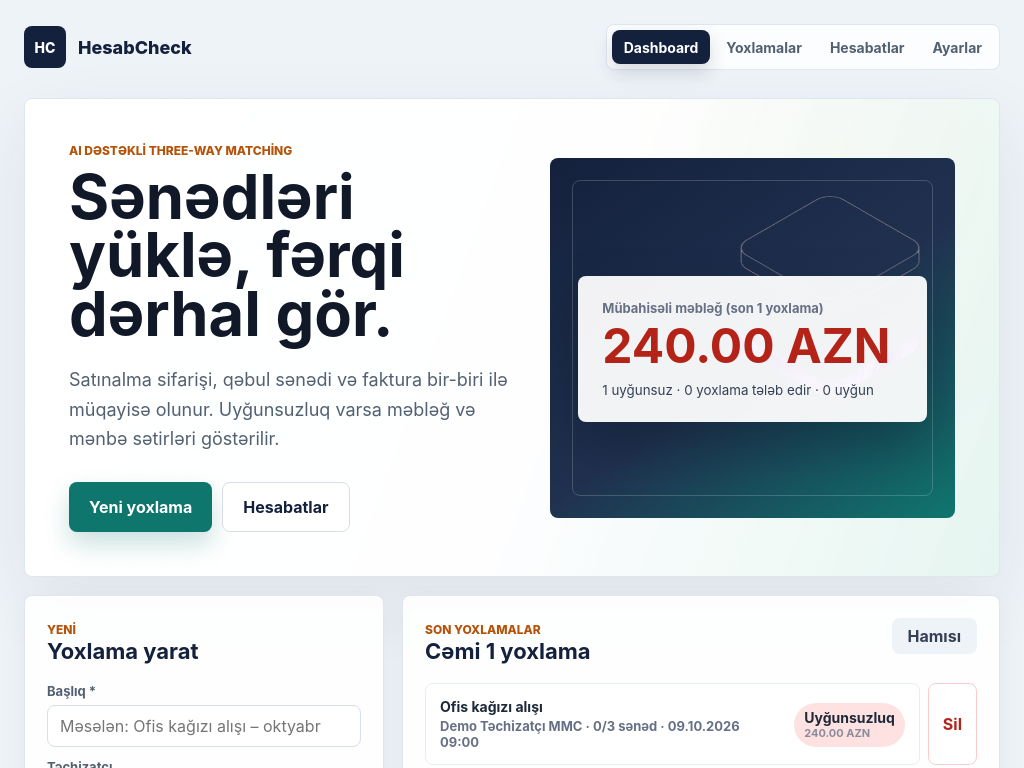
Test: Hesabatlar › JSON hesabatı endirir və yoxlamanı açır
Expected: the text "Ofis kağızı alışı" is shown, [440, 698, 543, 714]
Click the 1st button "Hesabatlar". click: point(867, 47)
box: [818, 30, 917, 64]
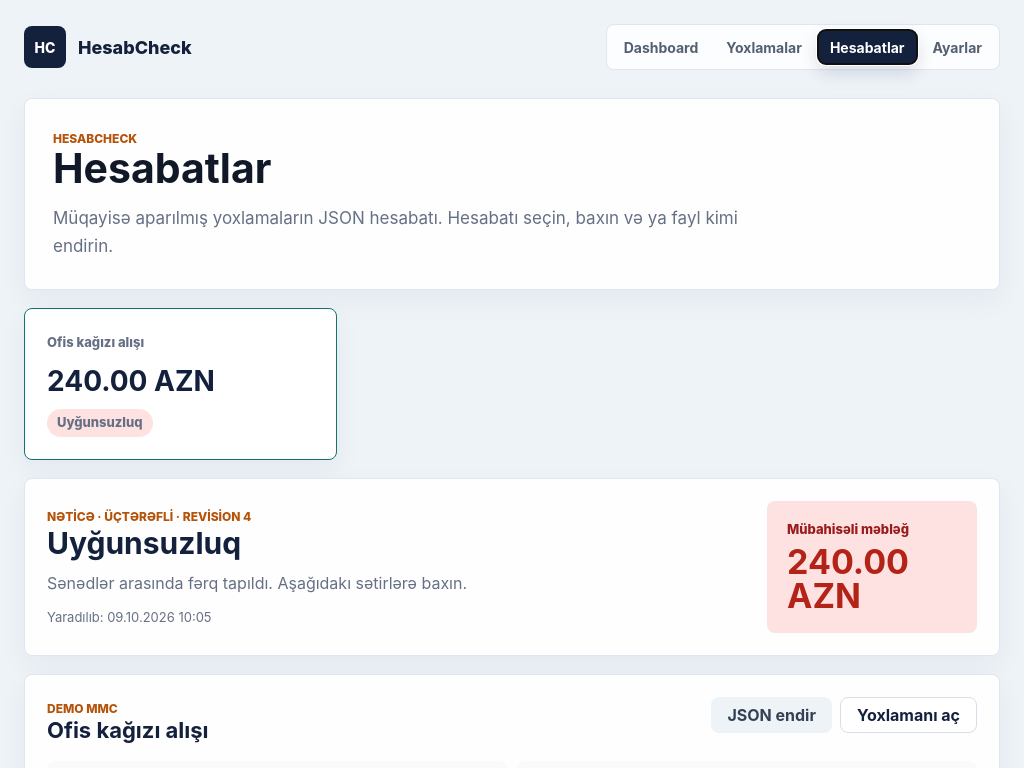
Click the button "JSON endir". click: point(772, 714)
box: [711, 696, 832, 732]
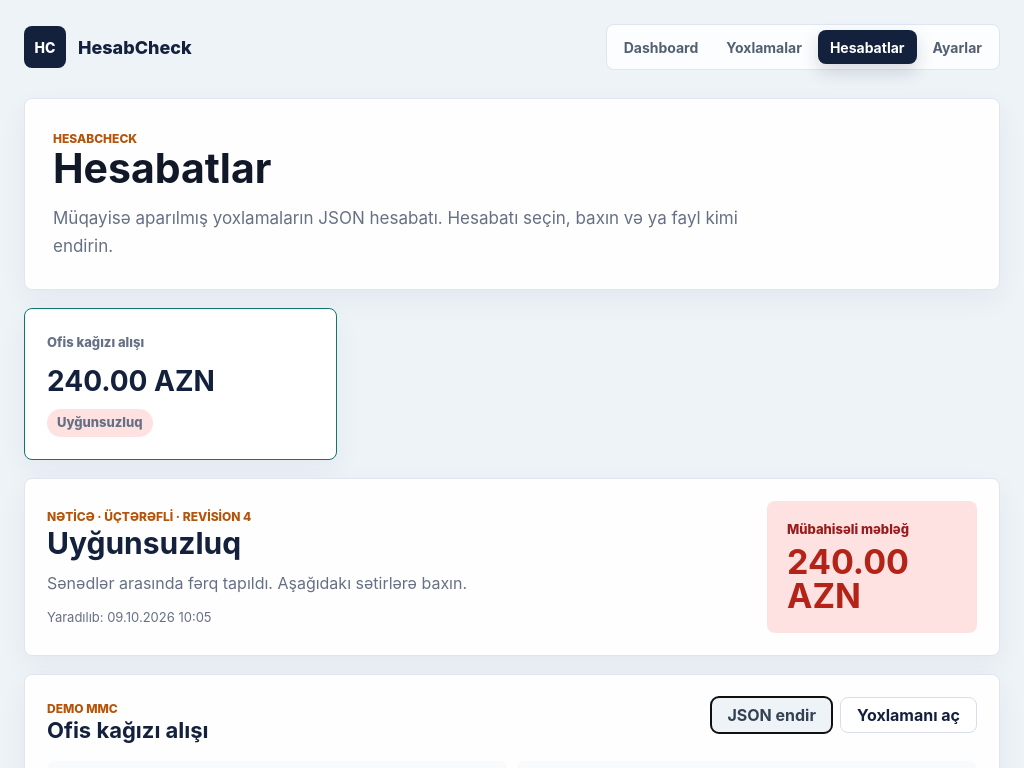
Click the button "Yoxlamanı aç". click: point(908, 714)
box: [840, 696, 977, 732]
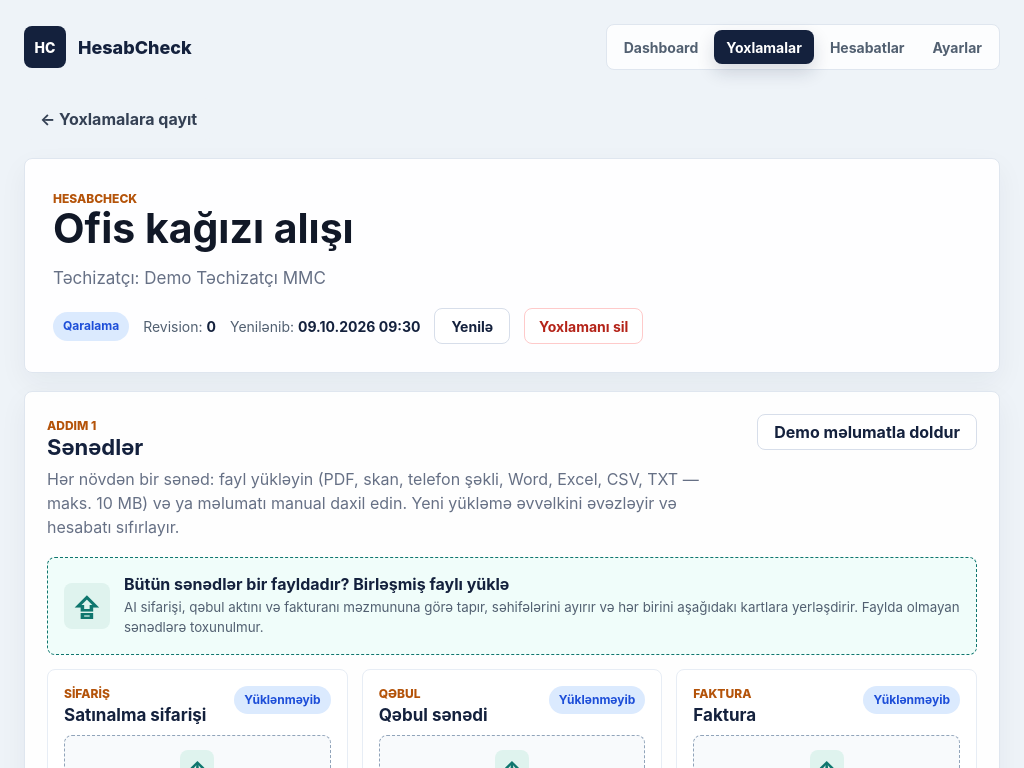
Expected: the heading "Ofis kağızı alışı" is shown, [53, 203, 354, 253]
